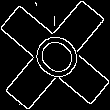O_SE: (21, 22, 89, 88)
